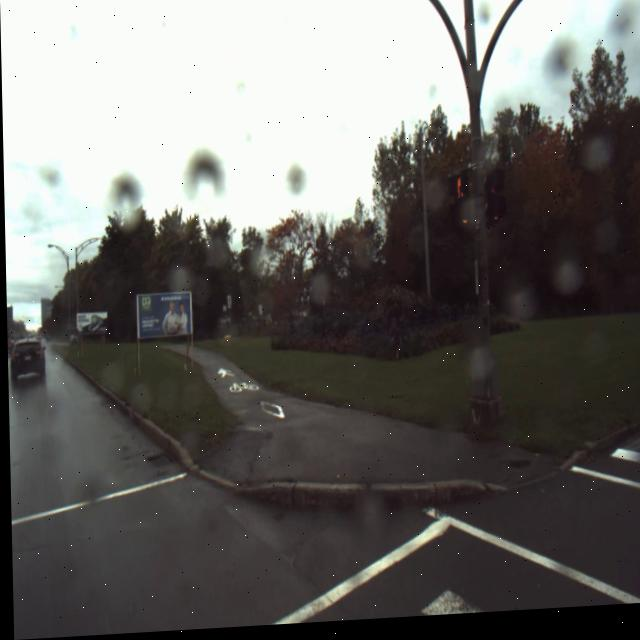car: (9, 336, 45, 386), (6, 337, 11, 360)
trafficLight: (446, 173, 476, 250), (484, 173, 507, 238)
